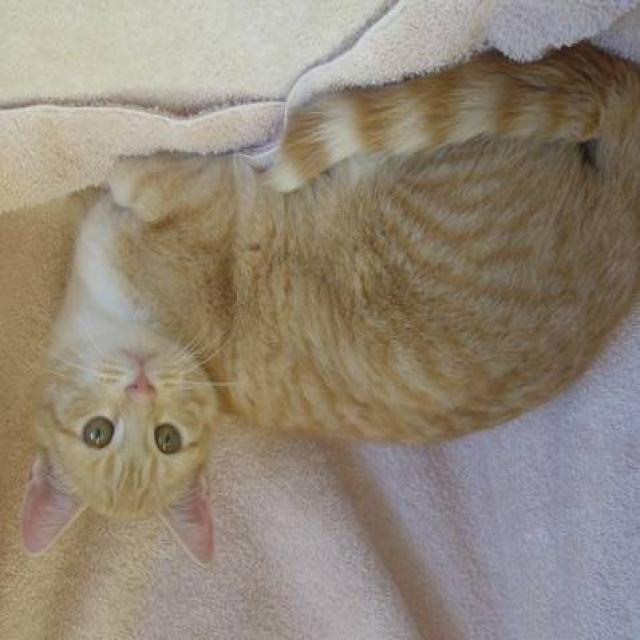Kucing: (16, 56, 632, 595)
